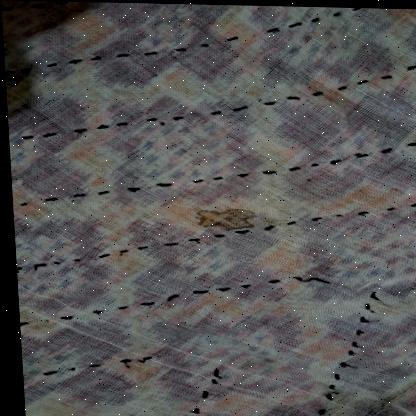spot: (178, 198, 260, 235)
